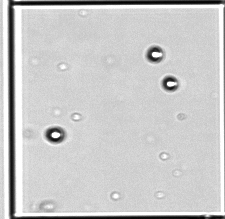Living Cell: (146, 44, 165, 63), (45, 125, 64, 143), (162, 75, 179, 92)
